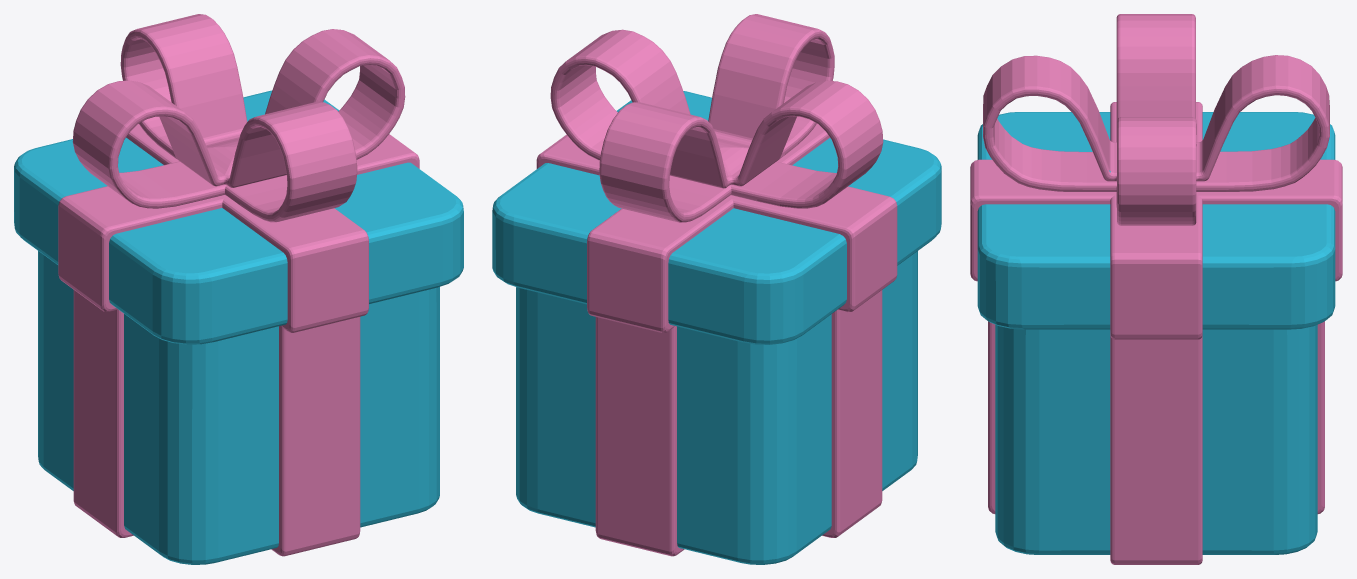
File: gift.glb
3 renders of one model, left to right at view 1: azimuth 30°, elevation 25°; view 2: azimuth 150°, elevation 25°; view 3: azimuth 270°, elevation 25°, orthographic.
Parts seen in each view (by area): view 1: Gift box_0; view 2: Gift box_0; view 3: Gift box_0.
Boxes of the visible parts, left/top/right/bottom form: Gift box_0: left=14, top=14, right=463, bottom=564; Gift box_0: left=492, top=14, right=941, bottom=564; Gift box_0: left=970, top=14, right=1342, bottom=564.
Bounding box in the file's own units: 2.31 × 2.92 × 2.31.
